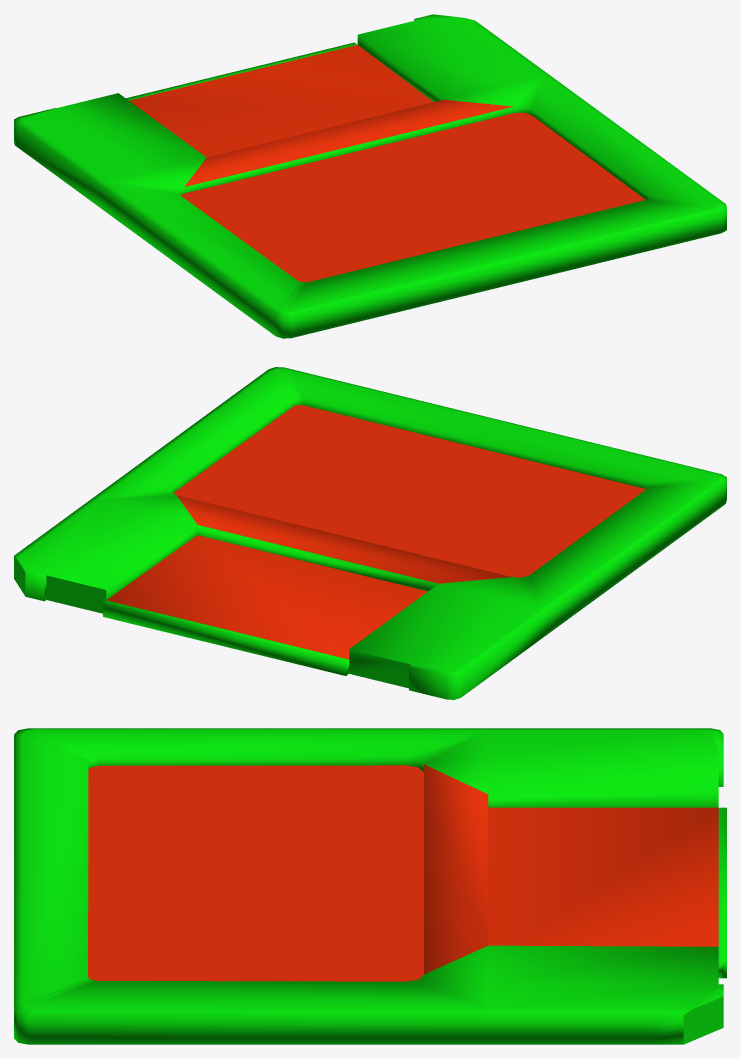
The model's file is Floppy.fbx.
3 renders of one model, top to bottom at view 1: azimuth 30°, elevation 25°; view 2: azimuth 150°, elevation 25°; view 3: azimuth 270°, elevation 25°, orthographic. The views are drawn at different scales.
Parts seen in each view (by area): view 1: Cube; view 2: Cube; view 3: Cube.
Part boxes in pixels (left/top/right/bottom): Cube: left=14, top=14, right=726, bottom=338; Cube: left=14, top=367, right=726, bottom=699; Cube: left=14, top=728, right=726, bottom=1044.
Bounding box in the file's own units: 14.32 × 0.7341 × 15.04.
